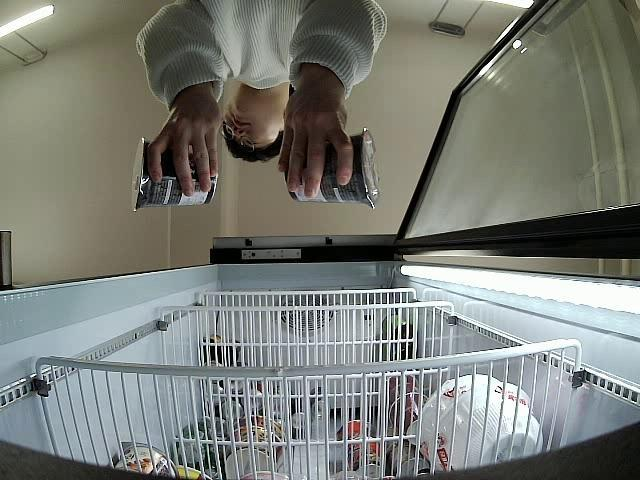08_buldak_S: (286, 128, 379, 210), (132, 138, 218, 208)
